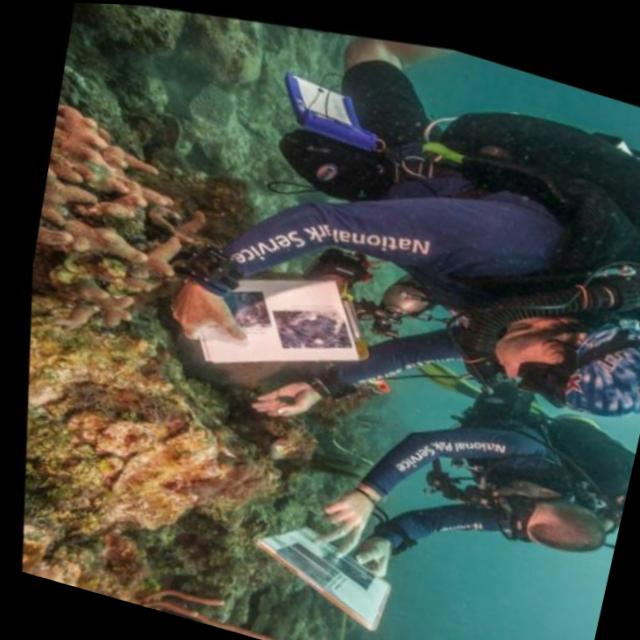Dead Coral: (6, 84, 204, 334), (36, 1, 257, 191)
